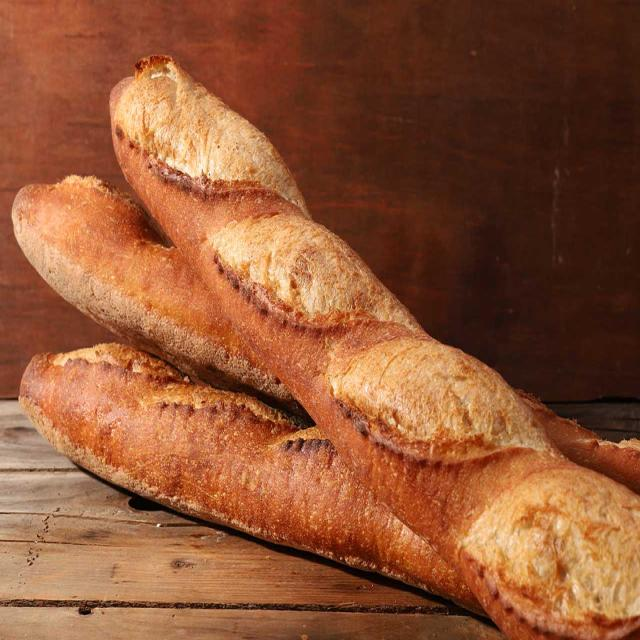Baguette: (110, 55, 640, 639), (23, 345, 483, 611), (14, 176, 302, 418)
